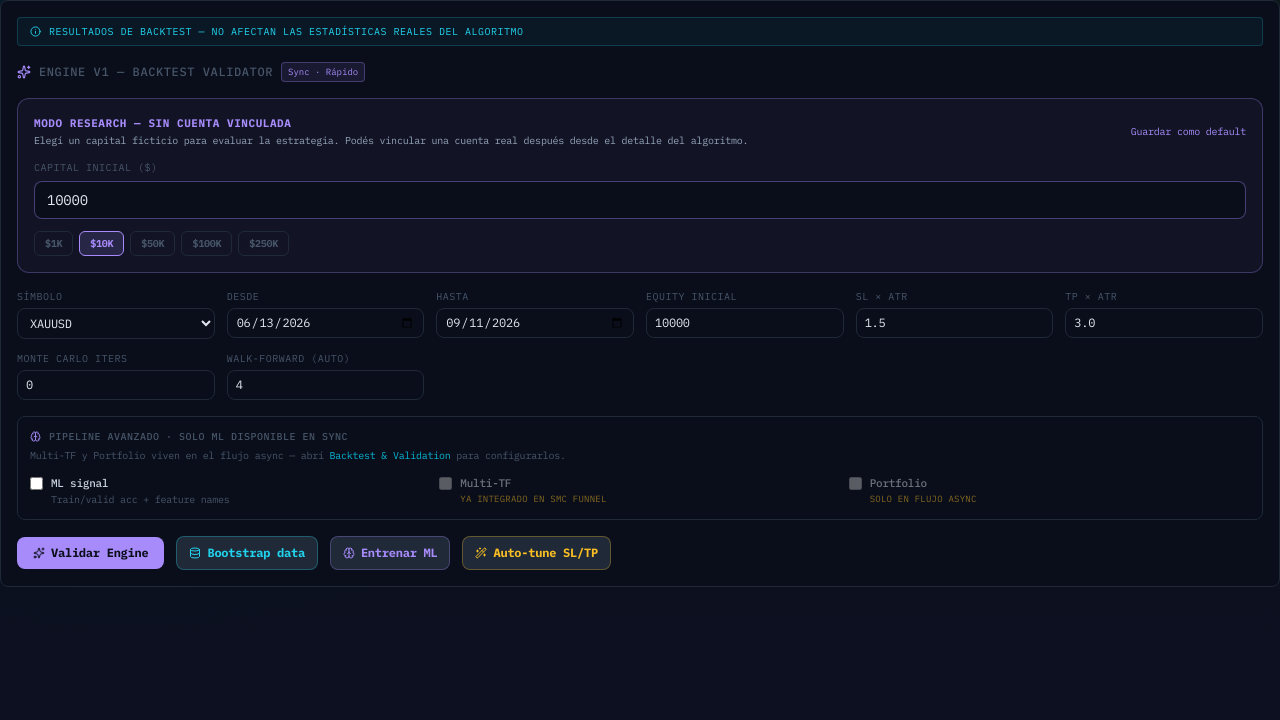
Test: EngineBacktestPanel — basic flow › Bootstrap bars button is disabled while the request is in flight
Click the button "Bootstrap data". click: {"x": 247, "y": 552}
box: [176,536,318,570]
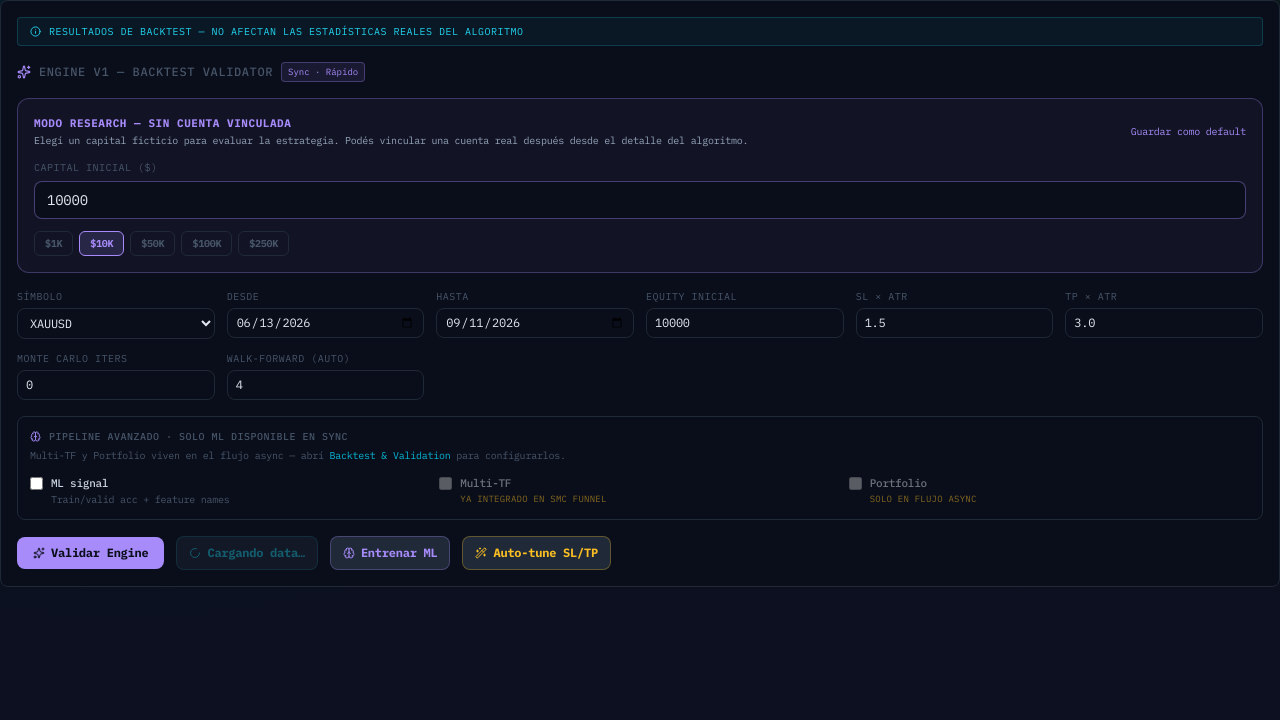
Expected: the button "Cargando data…" is disabled, [176,536,318,570]
